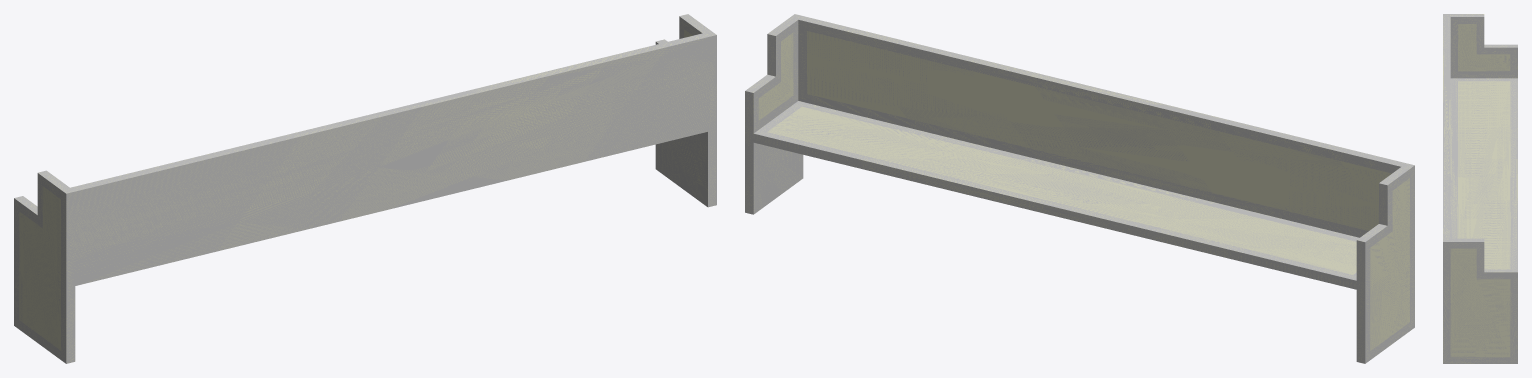
The picture shows the model from 3 angles, left to right: view 1: azimuth 30°, elevation 25°; view 2: azimuth 150°, elevation 25°; view 3: azimuth 270°, elevation 25°; orthographic projection. The views are drawn at different scales.
Visible parts, largest first — view 1: mesh1_mesh1-geometry; view 2: mesh1_mesh1-geometry; view 3: mesh1_mesh1-geometry.
Boxes of the visible parts, x1,y1,x2,y2 form: mesh1_mesh1-geometry: (14, 14, 716, 363); mesh1_mesh1-geometry: (745, 14, 1414, 363); mesh1_mesh1-geometry: (1443, 14, 1517, 363).
Bounding box in the file's own units: 0.9615 × 0.2404 × 0.1335.
